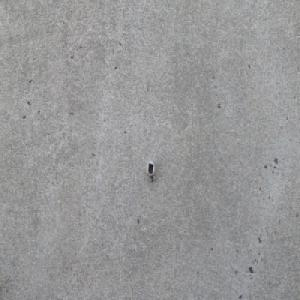MetalPart: (145, 160, 156, 184)
